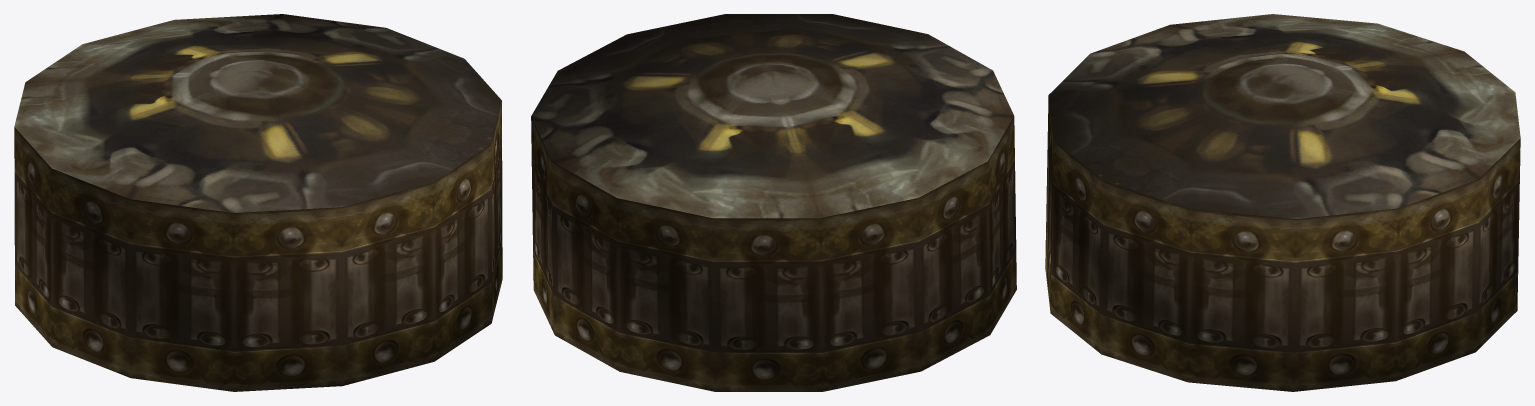
The model's file is ruinedsteamtankwheel01.obj.
3 renders of one model, left to right at view 1: azimuth 30°, elevation 25°; view 2: azimuth 150°, elevation 25°; view 3: azimuth 270°, elevation 25°, orthographic. The views are drawn at different scales.
Parts seen in each view (by area): view 1: ruinedsteamtankwheel01; view 2: ruinedsteamtankwheel01; view 3: ruinedsteamtankwheel01.
Part boxes in pixels (x1,y1,x2,y2): ruinedsteamtankwheel01: (14,14,502,391); ruinedsteamtankwheel01: (531,14,1016,391); ruinedsteamtankwheel01: (1045,14,1520,391).
Bounding box in the file's own units: 3.23 × 1.62 × 3.2.
Materials: 1 (1 with a texture image).
